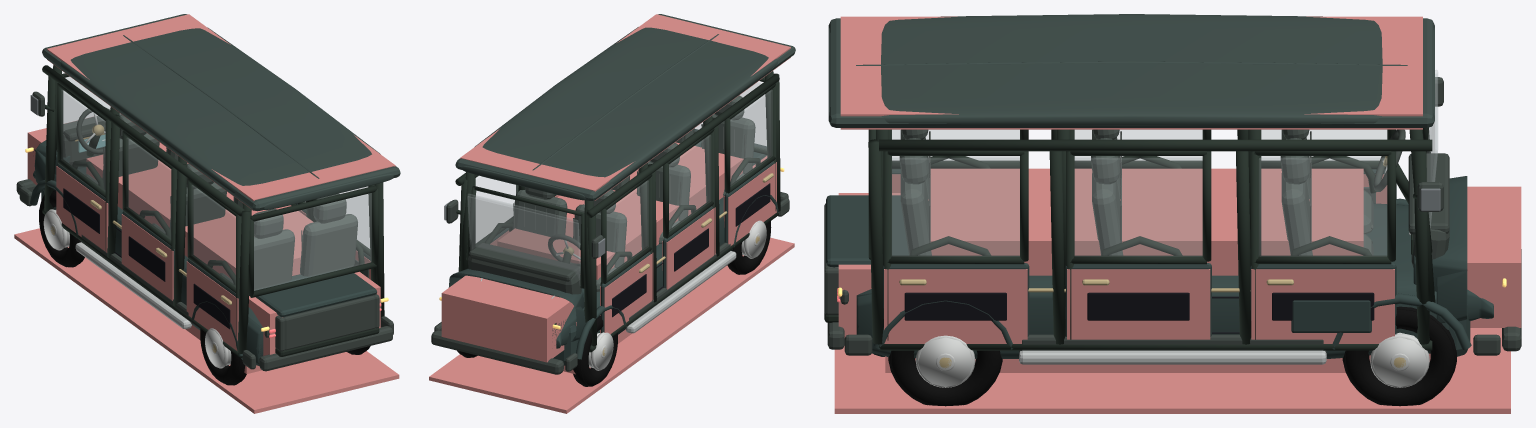
Rendered from golf_cart_luxury.glb.
The picture shows the model from 3 angles, left to right: view 1: azimuth 30°, elevation 25°; view 2: azimuth 150°, elevation 25°; view 3: azimuth 270°, elevation 25°; orthographic projection. The views are drawn at different scales.
Visible parts, largest first — view 1: RoofShell, COL_VEHICLE_FOOTPRINT, CabinRearWindow, COL_SeatArea, COL_Roof, Door_FL_Window, RearStorageBox_Wall_Rear, Door_RL_Window, Door_ML_Window, StorageLid_Rear_Panel, Seat_Passenger_Rear_Right_Back, CabinHeaderRail_L (+44 smaller); view 2: RoofShell, COL_VEHICLE_FOOTPRINT, COL_FrontBody, Windshield, LOD1_Windshield, COL_SeatArea, COL_Roof, Door_RL_Window, Door_ML_Window, Door_FL_Window, DashboardTop, CabinHeaderRail_L (+46 smaller); view 3: RoofShell, COL_SeatArea, COL_VEHICLE_FOOTPRINT, Door_MR_Window, Door_FR_Window, Door_RR_Window, COL_Roof, COL_Door_MR, COL_Door_RR, COL_FrontBody, CabinHeaderRail_R, Body (+51 smaller).
Boxes of the visible parts, x1,y1,x2,y2 form: RoofShell: (61, 27, 393, 209); COL_VEHICLE_FOOTPRINT: (14, 228, 399, 413); CabinRearWindow: (254, 193, 371, 290); COL_SeatArea: (86, 142, 313, 278); COL_Roof: (47, 14, 395, 210); Door_FL_Window: (61, 90, 105, 190); RearStorageBox_Wall_Rear: (283, 295, 375, 350); Door_RL_Window: (192, 185, 235, 286); Door_ML_Window: (127, 138, 170, 239); StorageLid_Rear_Panel: (254, 268, 376, 316); Seat_Passenger_Rear_Right_Back: (300, 214, 357, 276); CabinHeaderRail_L: (42, 65, 244, 216); RoofShell: (462, 27, 777, 200); COL_VEHICLE_FOOTPRINT: (429, 237, 794, 413); COL_FrontBody: (441, 275, 573, 362); Windshield: (468, 194, 580, 278); LOD1_Windshield: (467, 196, 580, 278); COL_SeatArea: (497, 142, 743, 279); COL_Roof: (460, 14, 790, 200); Door_RL_Window: (730, 90, 772, 185); Door_ML_Window: (669, 135, 710, 231); Door_FL_Window: (607, 180, 648, 276); DashboardTop: (469, 243, 580, 281); CabinHeaderRail_L: (586, 74, 779, 217); RoofShell: (828, 14, 1434, 125); COL_SeatArea: (928, 168, 1363, 275); COL_VEHICLE_FOOTPRINT: (834, 328, 1510, 413); Door_MR_Window: (1074, 158, 1202, 256); Door_FR_Window: (1259, 158, 1386, 256); Door_RR_Window: (892, 158, 1019, 256); COL_Roof: (840, 16, 1422, 129); COL_Door_MR: (1067, 269, 1210, 339); COL_Door_RR: (884, 269, 1027, 343); COL_FrontBody: (1467, 186, 1521, 327); CabinHeaderRail_R: (879, 139, 1432, 151); Body: (856, 203, 1448, 358).
Size of what is drawn, in the model's own units: 1.55 by 1.96 by 4.08.
